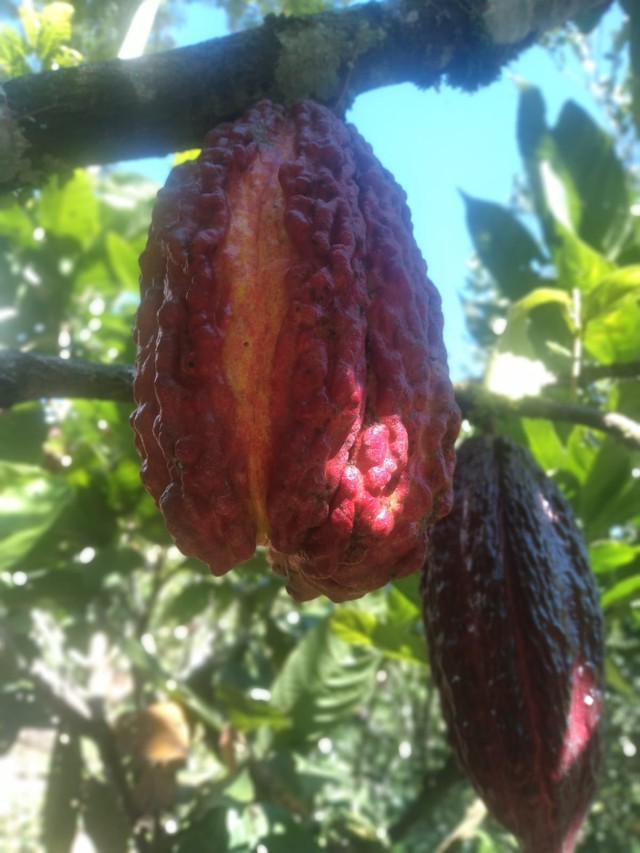Health: (109, 73, 469, 621)
